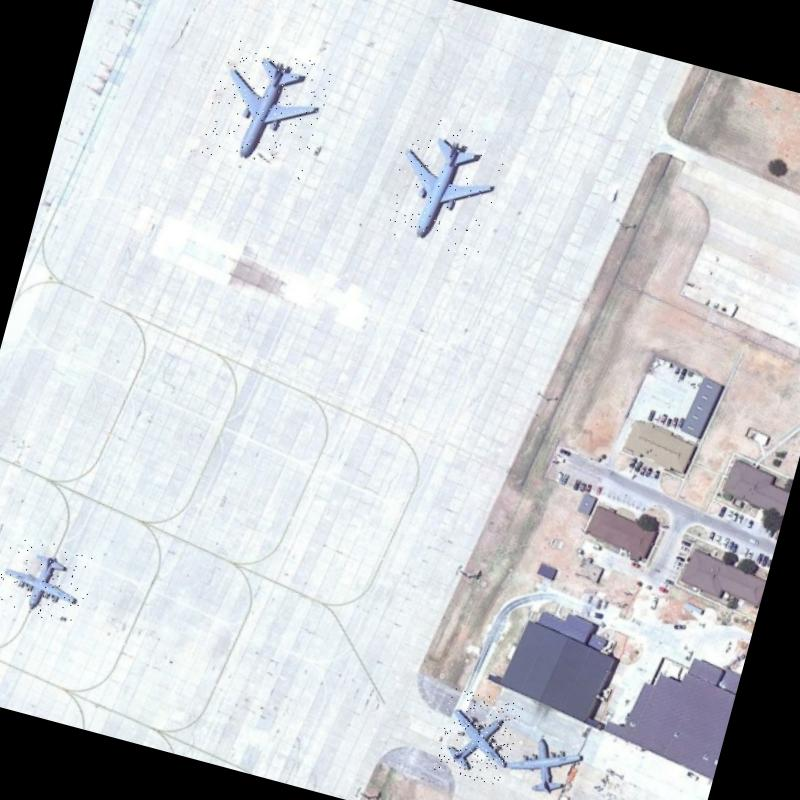A18: (198, 36, 338, 181), (378, 112, 510, 258)
A2: (430, 686, 524, 788), (0, 532, 98, 628), (505, 719, 591, 800)
